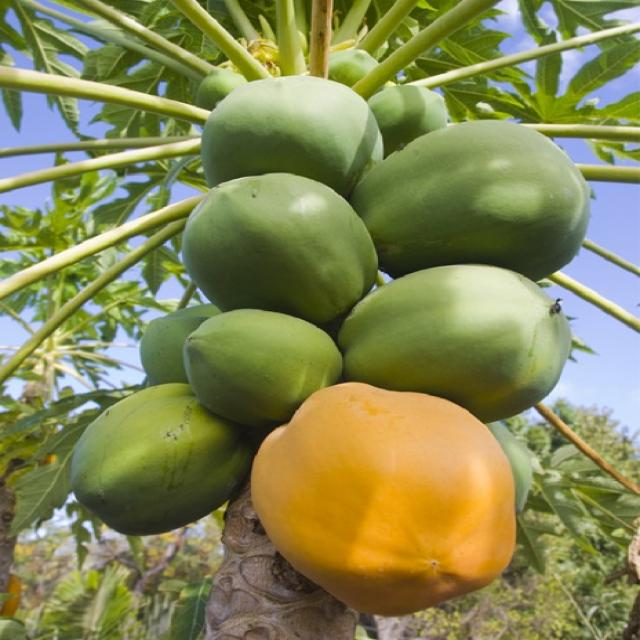Pepaya rippen: (243, 382, 528, 618)
Pepaya unrippen: (368, 113, 606, 283), (349, 257, 577, 398), (55, 392, 235, 534), (190, 171, 374, 303), (185, 65, 378, 176), (181, 310, 331, 402)
